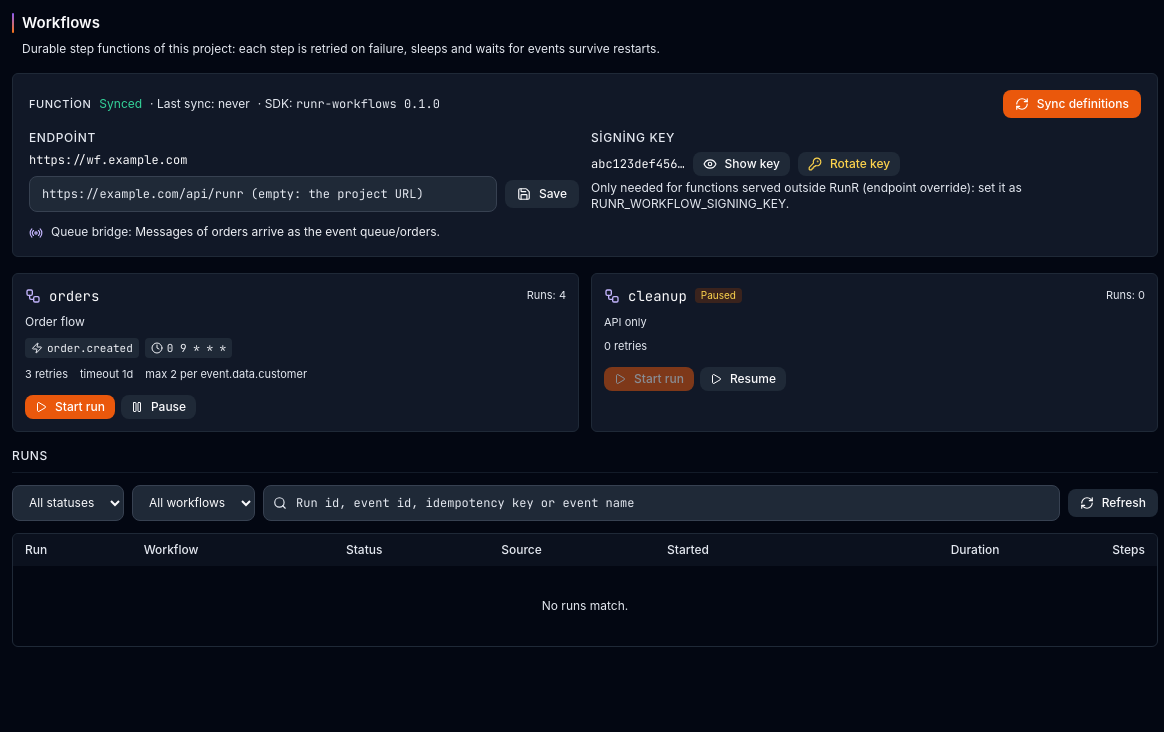
it: WorkflowsTab › pauses and resumes a workflow
Step 1. Click the button with test id "toggle-orders" → (158, 406), box [121,394,196,418]
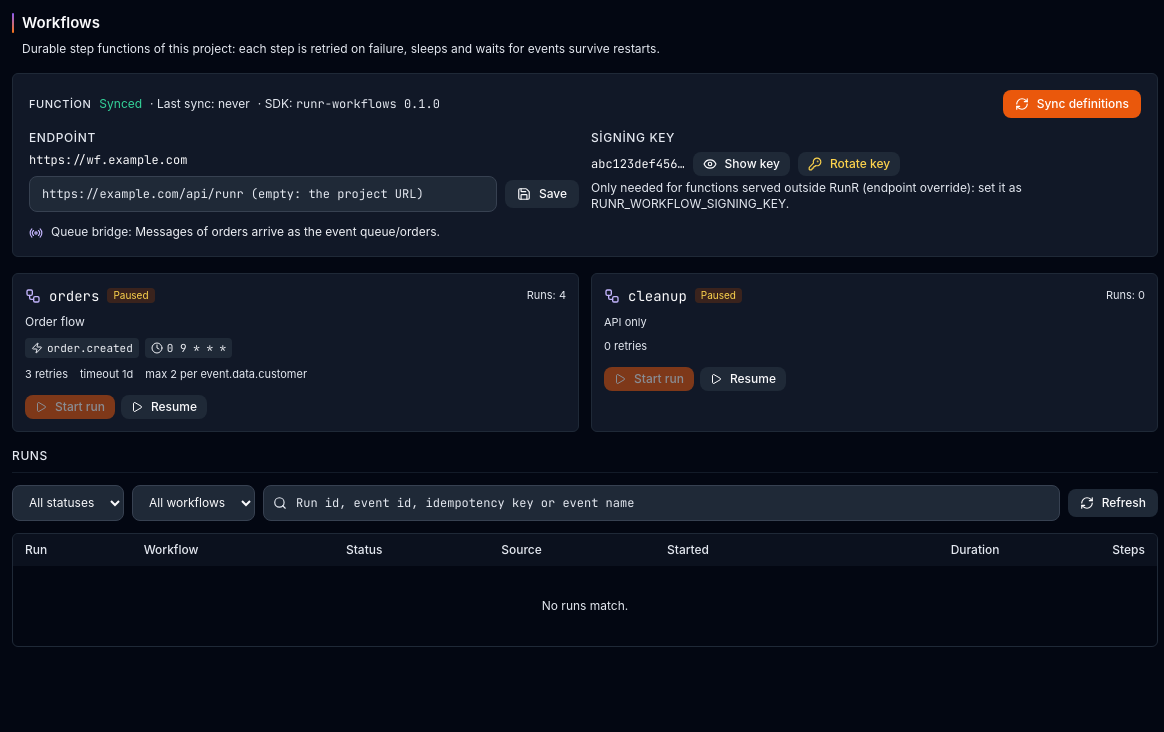
Expected: the element that starts with "orders" shows "Paused", [113,289,149,301]
